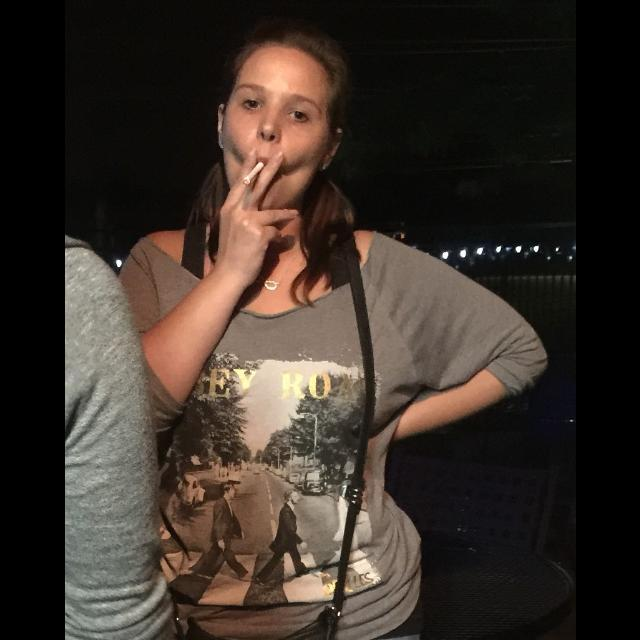rokok: (239, 158, 263, 188)
